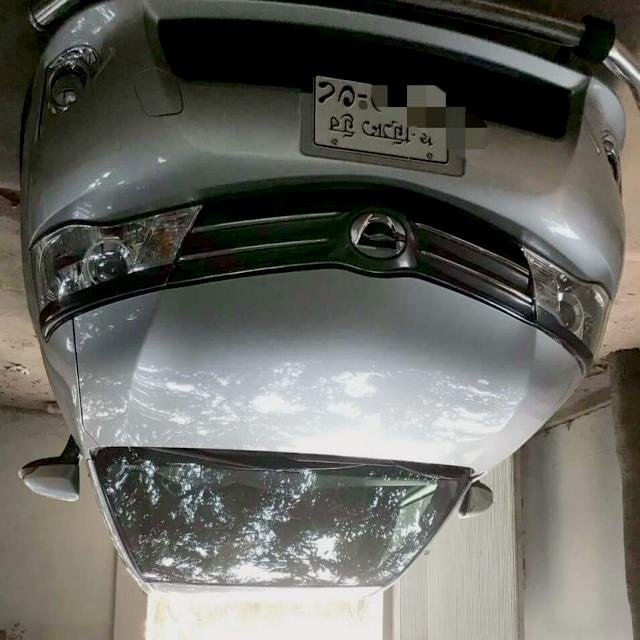silver: (13, 0, 639, 598)
